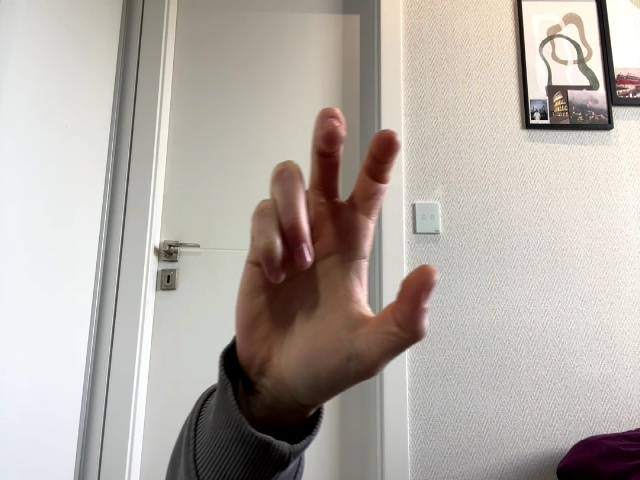CH: (236, 107, 438, 392)
